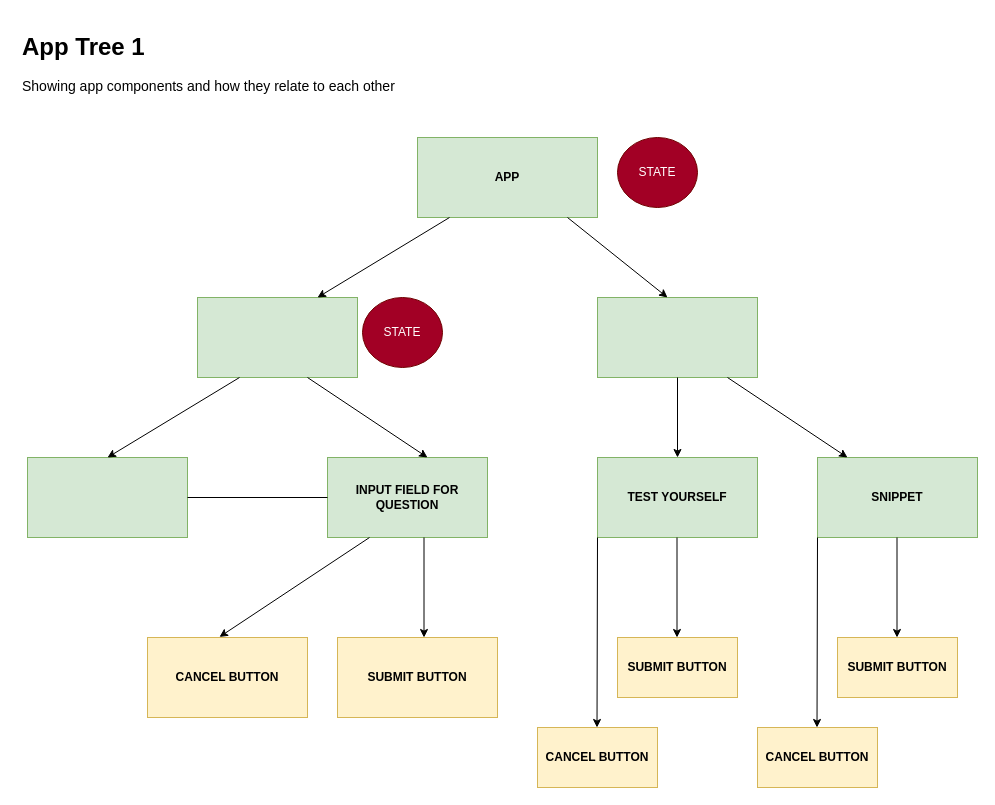
Some shapes in this 995 by 805 pixel diagram are drawn without their labels. Here are the shapes that lost their labels. From the top down, the centre of each, then its label:
the point at 277,337: NEW FLIP CARD
the point at 677,337: LANDING PAGE
the point at 107,497: INPUT FIELD FOR ANSWER
